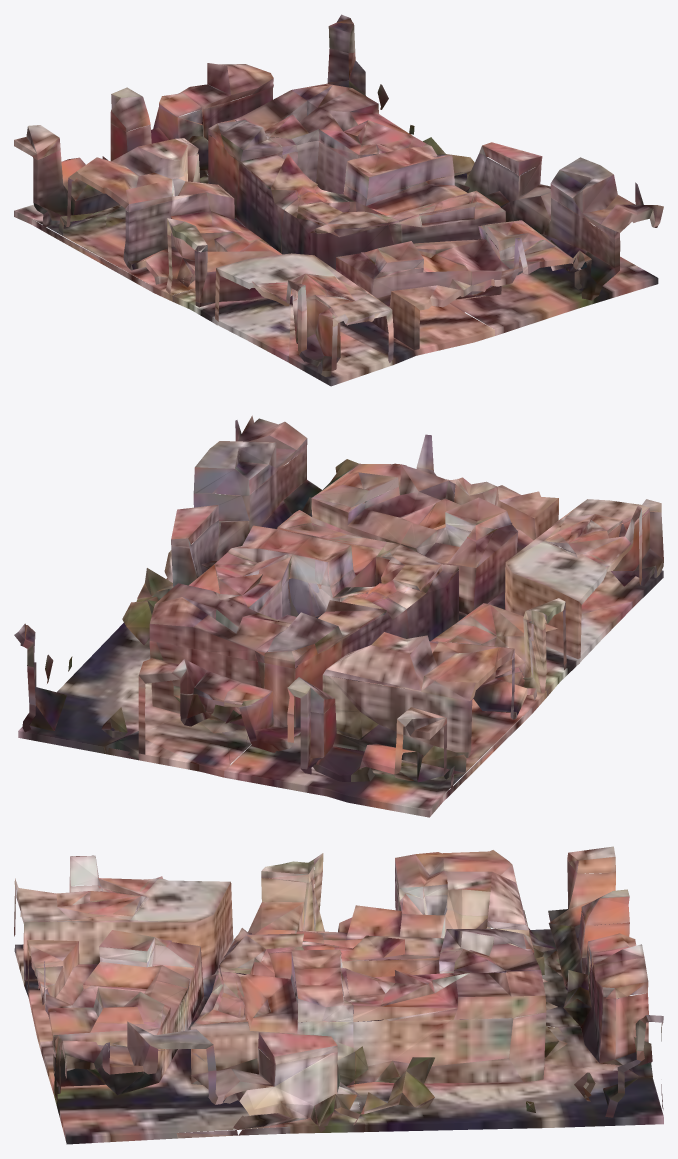
3 views of the same model, one above another, from view 1: azimuth 30°, elevation 25°; view 2: azimuth 150°, elevation 25°; view 3: azimuth 270°, elevation 25° (orthographic). The views are drawn at different scales.
Parts seen in each view (by area): view 1: Mesh_0; view 2: Mesh_0; view 3: Mesh_0.
Boxes of the visible parts, <box> form: Mesh_0: <box>14,14,663,386</box>; Mesh_0: <box>14,415,663,817</box>; Mesh_0: <box>14,846,663,1144</box>.
Size of the model in its own units: 135 by 32.24 by 165.
1 material, 1 textured.
